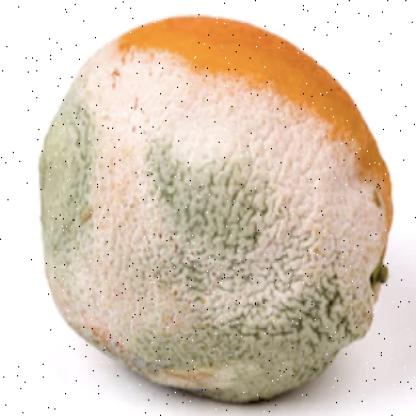rotten: (38, 14, 396, 398)
